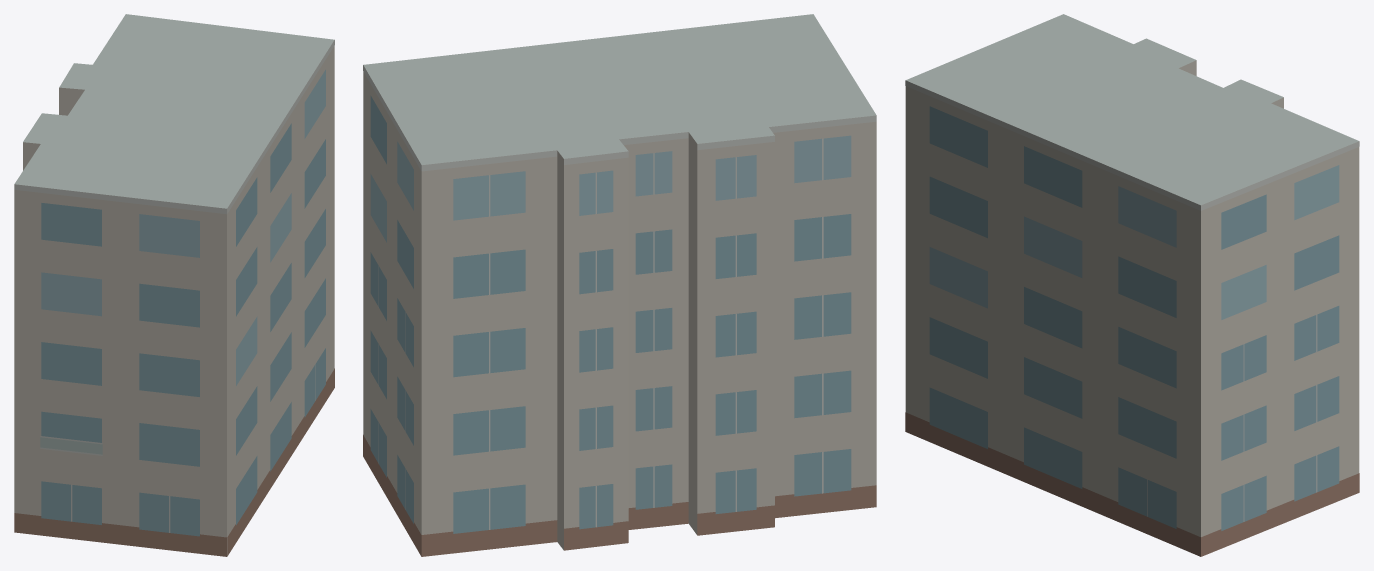
Rendered from survey-upis-32825765.glb.
3 views of the same model, side by side, from view 1: azimuth 30°, elevation 25°; view 2: azimuth 150°, elevation 25°; view 3: azimuth 270°, elevation 25° (orthographic). The views are drawn at different scales.
Parts seen in each view (by area): view 1: survey-upis-32825765.tmp; view 2: survey-upis-32825765.tmp; view 3: survey-upis-32825765.tmp.
Boxes of the visible parts, x1,y1,x2,y2 form: survey-upis-32825765.tmp: [14, 14, 334, 556]; survey-upis-32825765.tmp: [363, 14, 876, 556]; survey-upis-32825765.tmp: [905, 14, 1359, 556].
Size of the model in its own units: 17.87 by 15.3 by 17.91.
